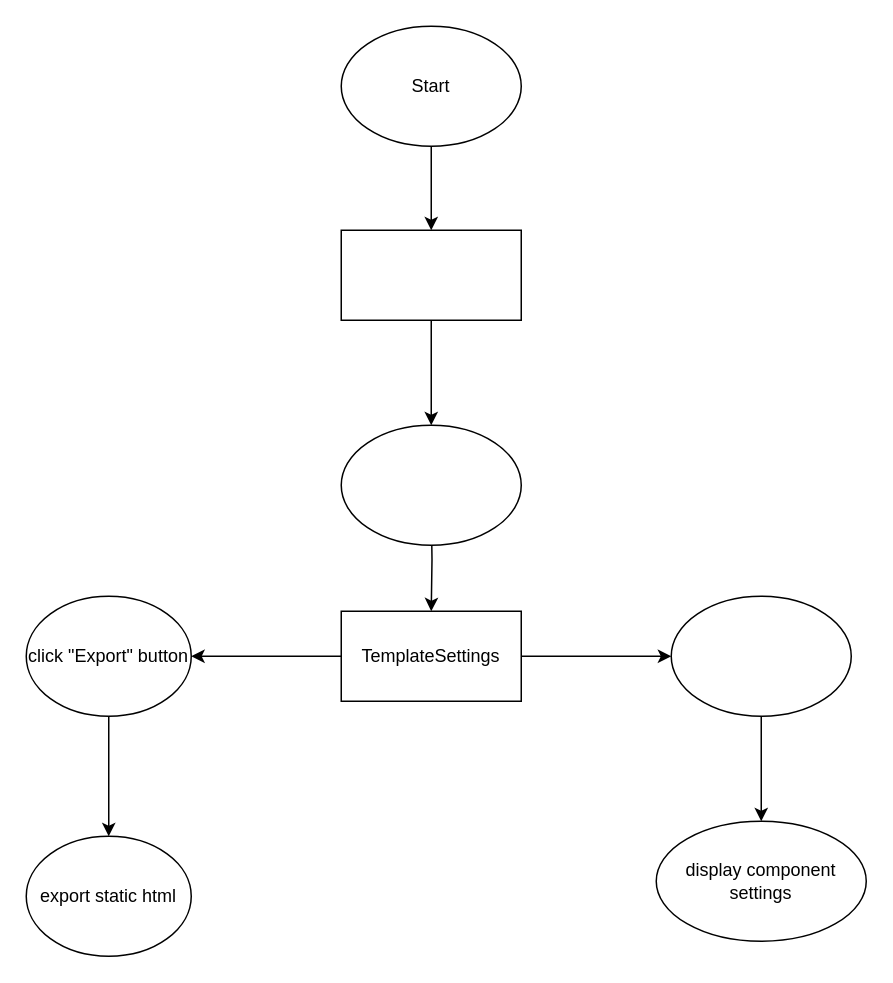
Image size: 893x983. Some labels were removed from this diagram. Here are the shapes that lost their labels. From the top down, the centre of each, then its label:
At point (430, 274): "Home".
At point (430, 484): "click thumbnail".
At point (760, 655): "select component".
